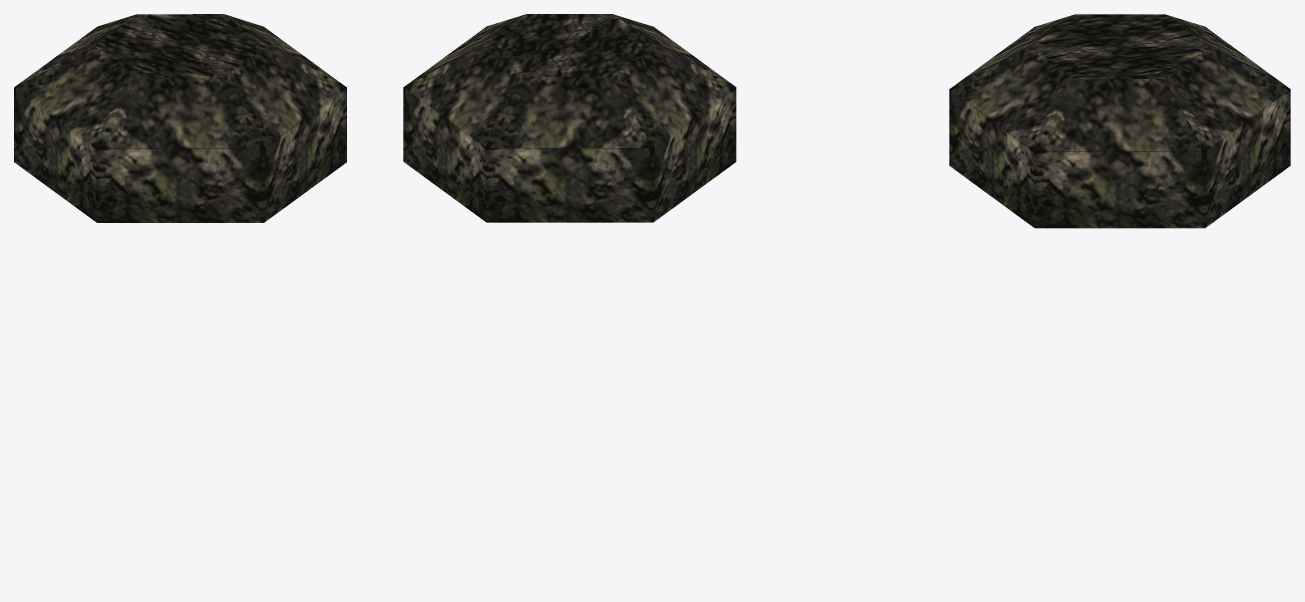
File: autocannoncamo2_hdtex.glb
3 renders of one model, left to right at view 1: azimuth 30°, elevation 25°; view 2: azimuth 150°, elevation 25°; view 3: azimuth 270°, elevation 25°, orthographic. The views are drawn at different scales.
Parts seen in each view (by area): view 1: Doorbase, Door05, Door06, Door03, Door02; view 2: Doorbase, Door02, Door06, Door03, Door05; view 3: Doorbase, Door03, Door02, Door05, Door06.
Boxes of the visible parts, bbox=[...] form: Doorbase: bbox=[14, 30, 346, 222]; Door05: bbox=[97, 45, 346, 148]; Door06: bbox=[14, 14, 223, 148]; Door03: bbox=[138, 14, 344, 85]; Door02: bbox=[15, 14, 236, 86]; Doorbase: bbox=[403, 26, 736, 222]; Door02: bbox=[404, 45, 652, 147]; Door06: bbox=[527, 14, 735, 147]; Door03: bbox=[404, 14, 612, 86]; Door05: bbox=[499, 14, 734, 86]; Doorbase: bbox=[949, 27, 1290, 228]; Door03: bbox=[1032, 46, 1207, 151]; Door02: bbox=[1164, 14, 1290, 151]; Door05: bbox=[950, 14, 1075, 151]; Door06: bbox=[1031, 14, 1207, 46].
Size of the model in its own units: 7.27 by 13.6 by 12.21.
4 materials, 4 textured.
